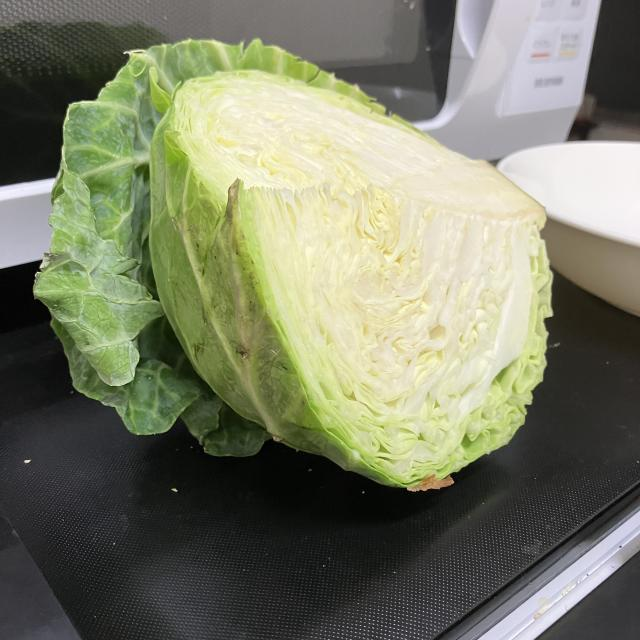haft-cabbage: (28, 34, 556, 499)
